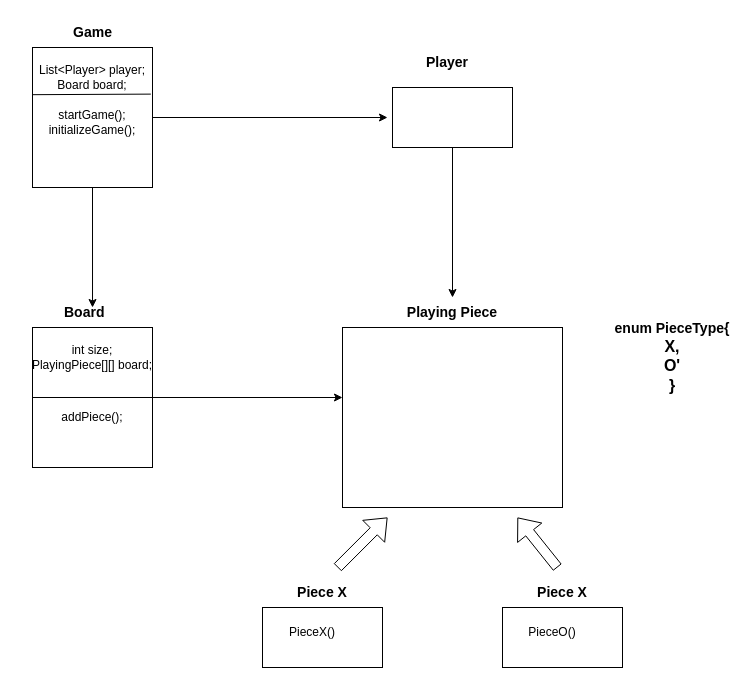
The diagram is 749 pixels wide and 685 high, and some of its shapes have lost their labels. Here are the shapes that lost their labels. From the top down, the centre of each, then its label:
At (x=452, y=117): "String name; PlayingPiece piece".
At (x=452, y=417): "PieceType type; PlayerPiece(PieceType type);".
